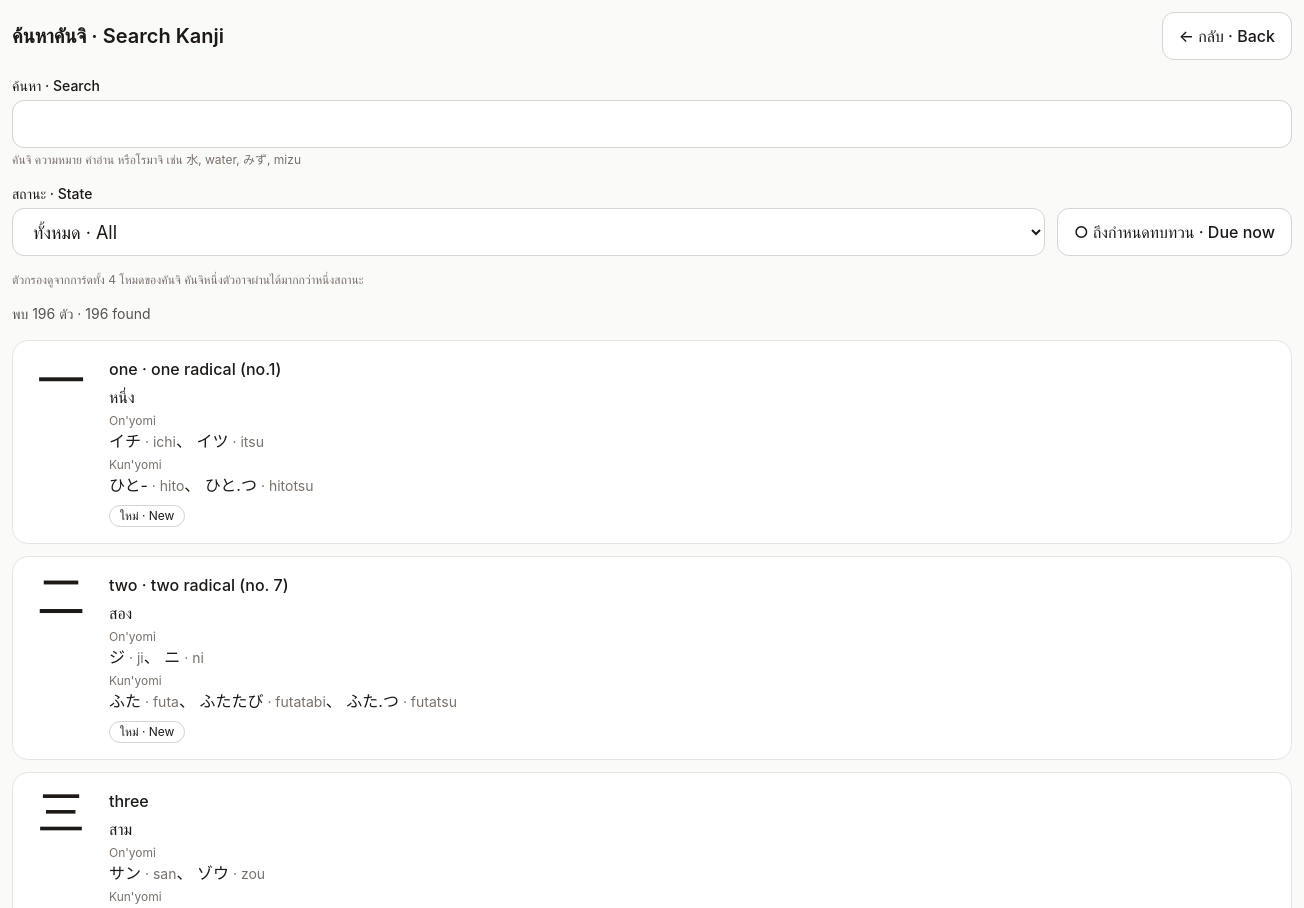
Test: search screen (real repositories, real dataset) › typing "water" shows 水 once; no result shows the empty state, not an error
Check: the text "พบ 196 ตัว · 196 found" is shown, box 12,305 -> 151,322
In the search field labelled "ค้นหา · Search": (652, 124) 12,100 -> 1292,148, type "water"
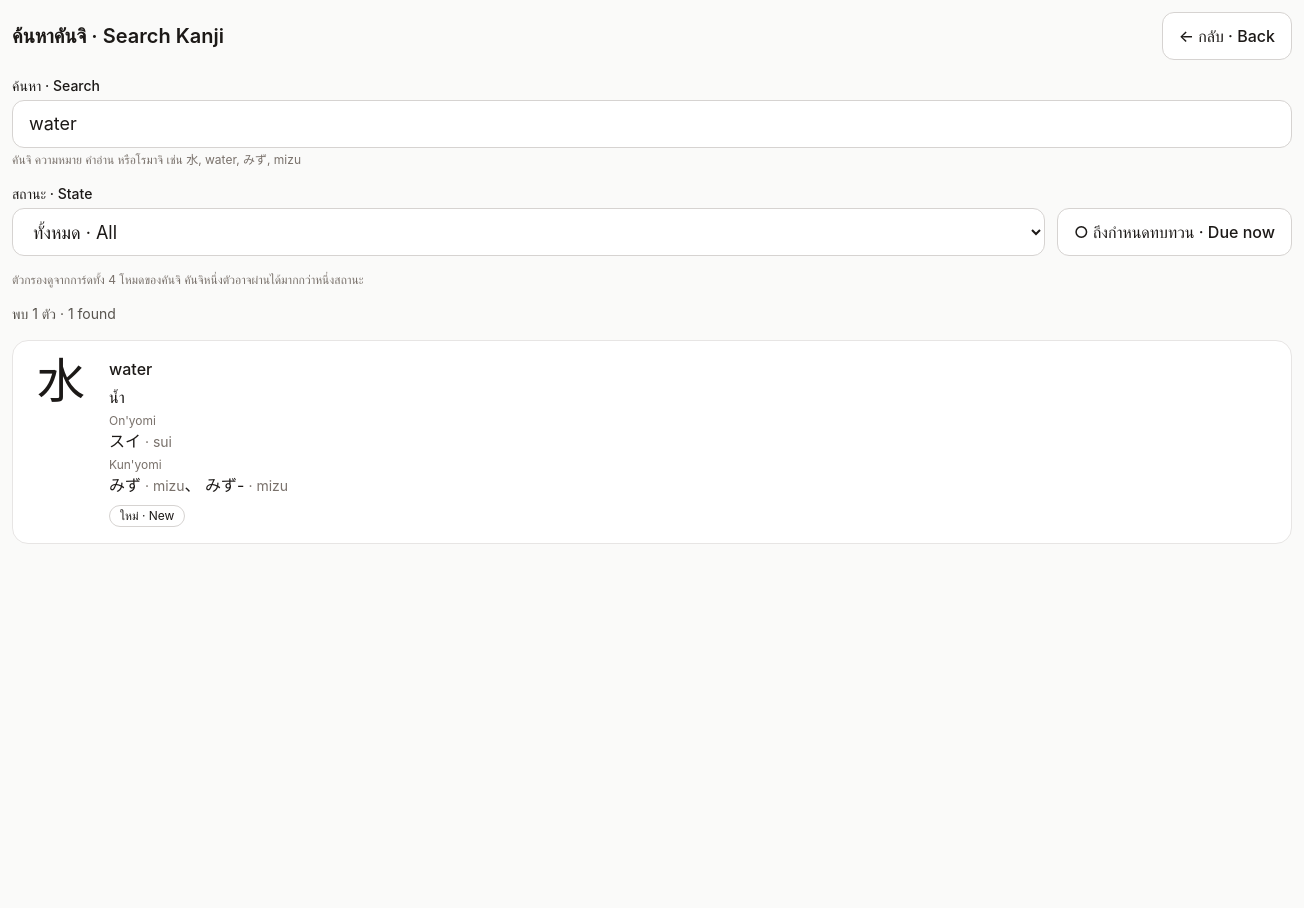
Check: the text "水" is shown once, box 37,351 -> 85,410
Replace the text in the search field labelled "ค้นหา · Search" with "qqqzzz": (652, 124) 12,100 -> 1292,148
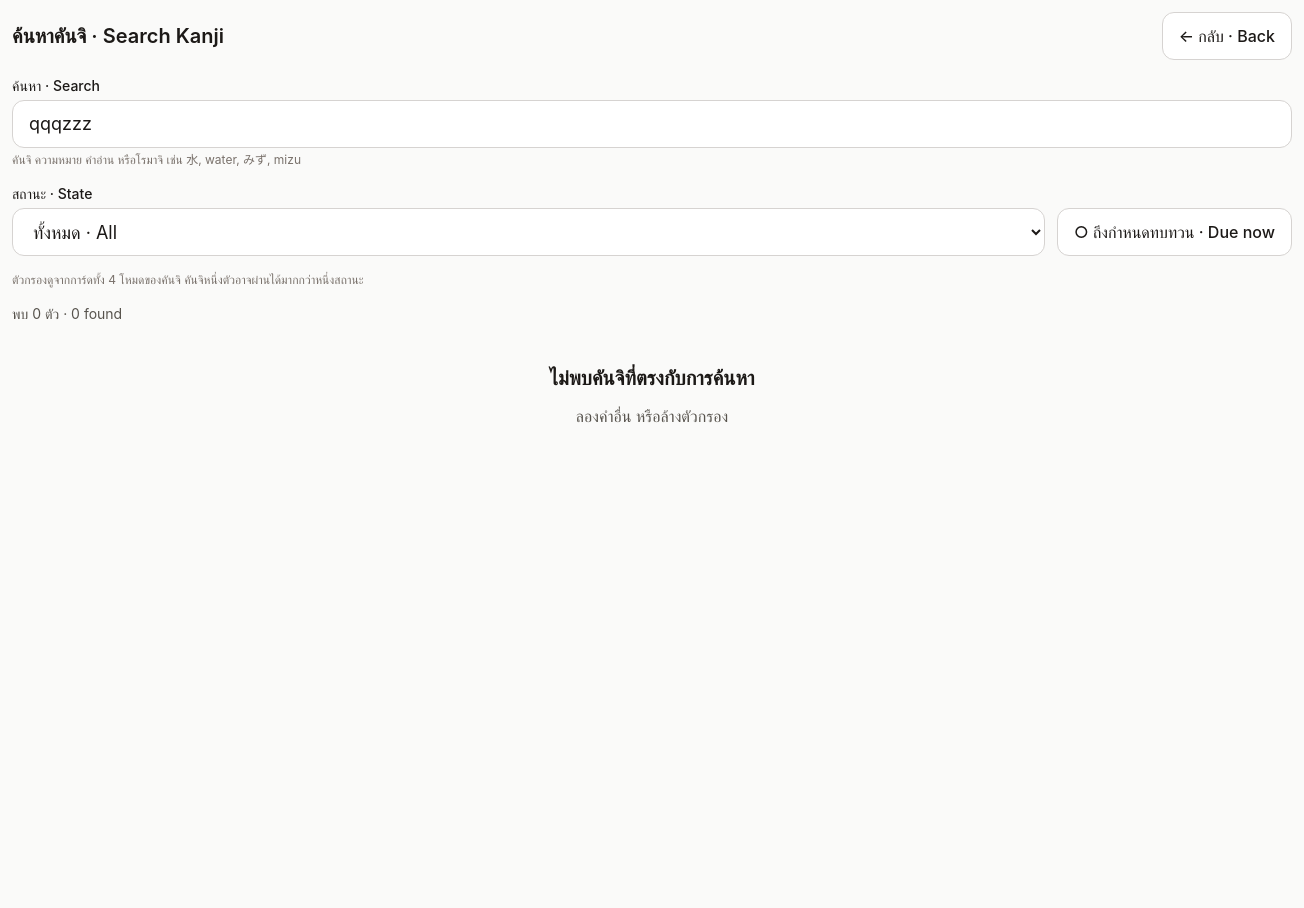
Check: the heading "ไม่พบคันจิที่ตรงกับการค้นหา" is shown, box 550,364 -> 755,392
